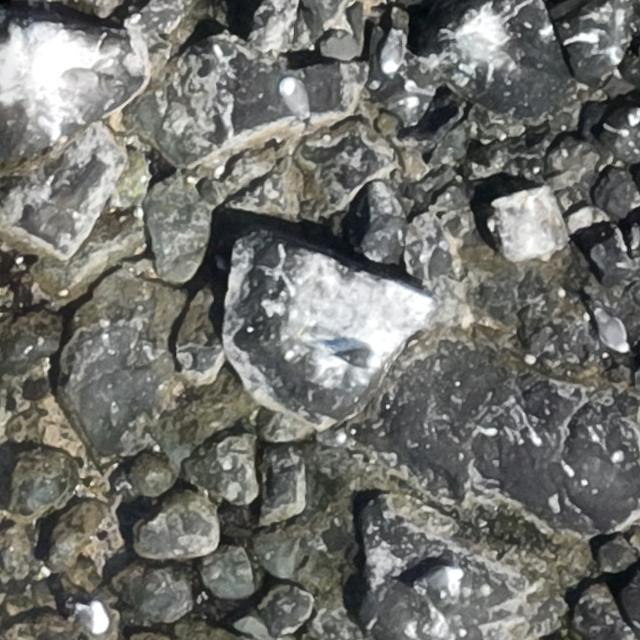umineko: (380, 29, 406, 77), (282, 79, 307, 115), (599, 313, 624, 348), (336, 347, 377, 365), (86, 604, 110, 634)
